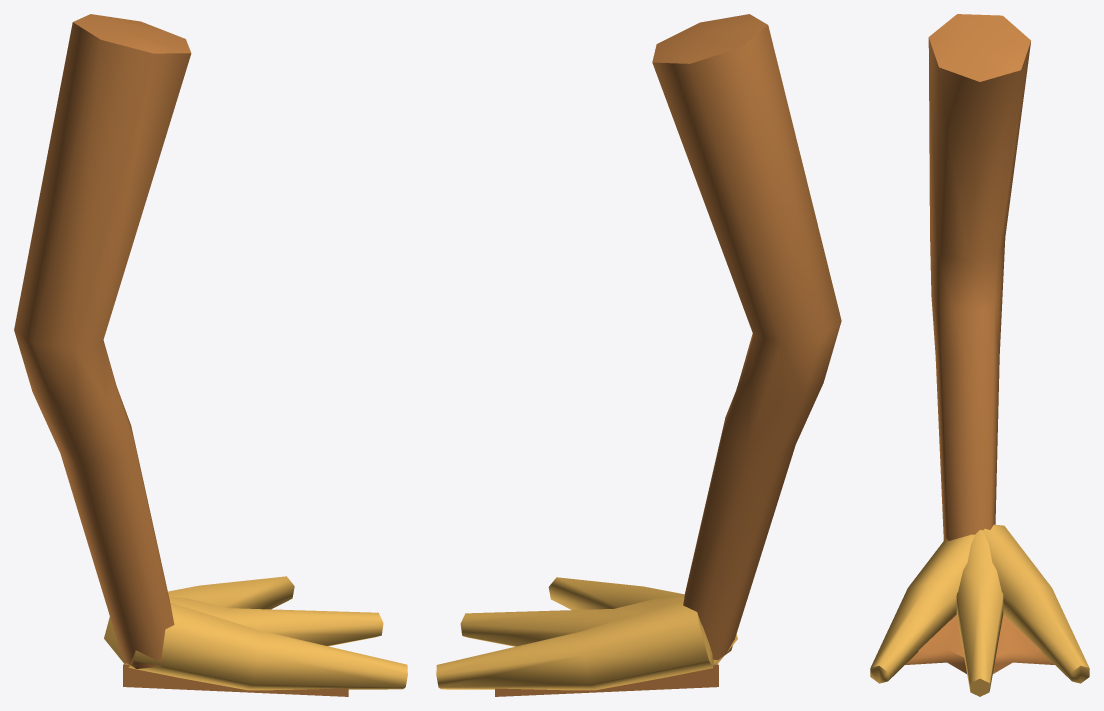
The model's file is SM_GullLegR.fbx.
3 renders of one model, left to right at view 1: azimuth 30°, elevation 25°; view 2: azimuth 150°, elevation 25°; view 3: azimuth 270°, elevation 25°, orthographic. The views are drawn at different scales.
Parts seen in each view (by area): view 1: SM_GullLegR; view 2: SM_GullLegR; view 3: SM_GullLegR.
Part boxes in pixels (left/top/right/bottom): SM_GullLegR: left=14, top=14, right=407, bottom=696; SM_GullLegR: left=436, top=14, right=841, bottom=696; SM_GullLegR: left=870, top=14, right=1089, bottom=696.
Bounding box in the file's own units: 8.48 × 5.33 × 15.37.
1 material, 1 textured.
